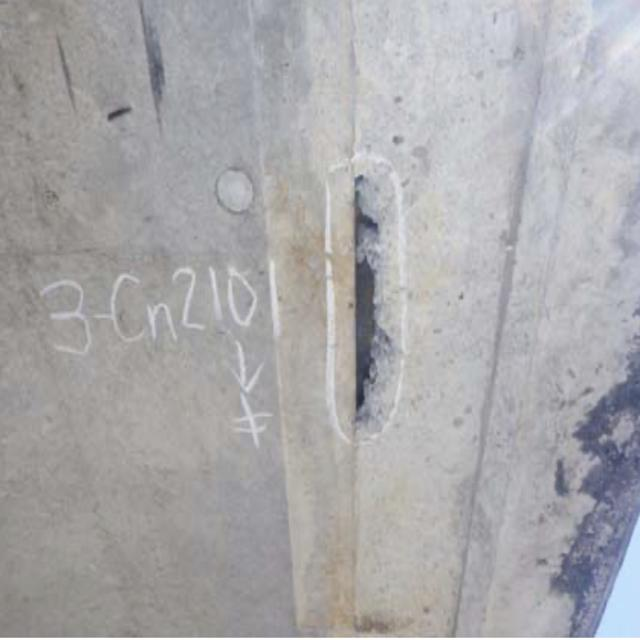spalling: (323, 164, 404, 437)
